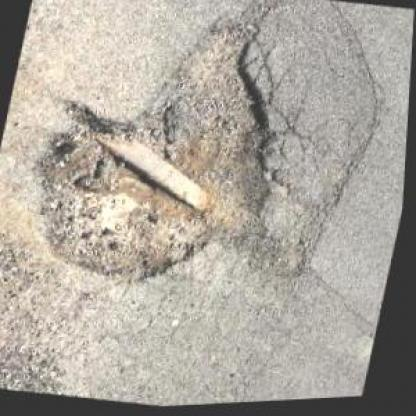pothole: (10, 0, 312, 311)
